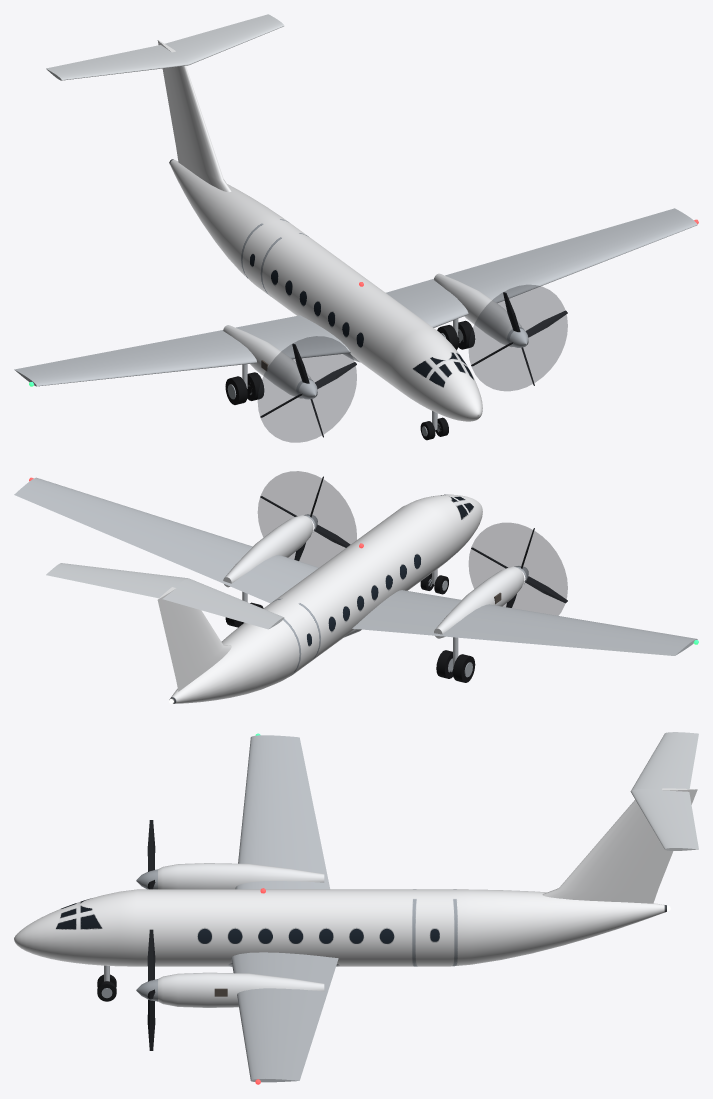
The picture shows the model from 3 angles, top to bottom: view 1: azimuth 30°, elevation 25°; view 2: azimuth 150°, elevation 25°; view 3: azimuth 270°, elevation 25°; orthographic projection. The views are drawn at different scales.
Visible parts, largest first — view 1: body, gear; view 2: body, gear; view 3: body.
Part boxes in pixels (left/top/right/bottom): body: left=14, top=14, right=698, bottom=442; gear: left=225, top=319, right=475, bottom=440; body: left=14, top=471, right=698, bottom=703; gear: left=225, top=569, right=475, bottom=682; body: left=14, top=732, right=698, bottom=1084.
Bounding box in the file's own units: 16.83 × 4.69 × 13.99.
16 materials, 1 textured.
